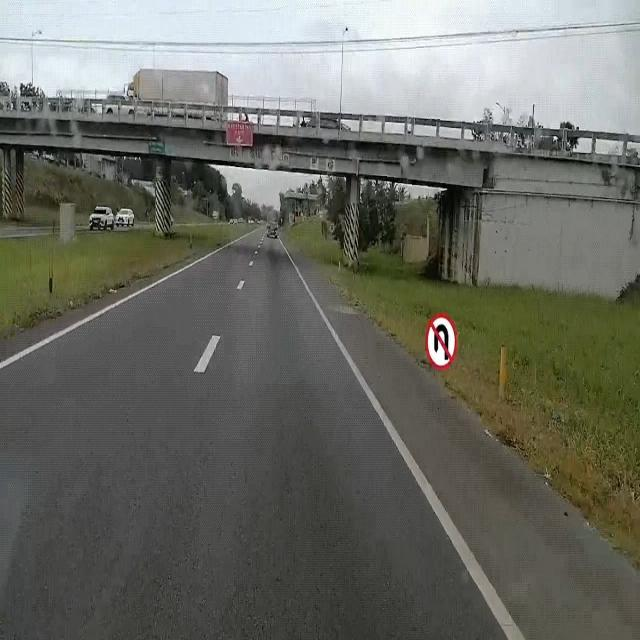Demi-Tour-Interdit: (423, 307, 461, 377)
